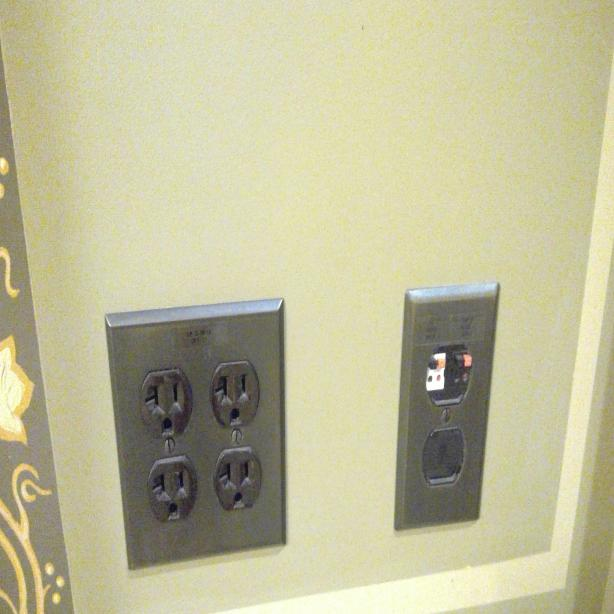typeb: (139, 371, 189, 438), (212, 363, 254, 425), (218, 448, 258, 511), (149, 465, 189, 521)
